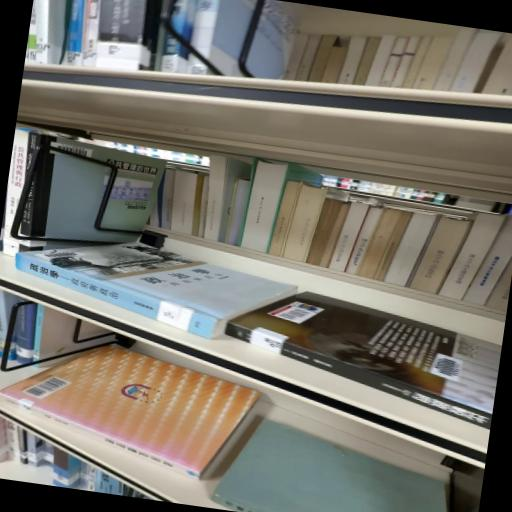flat: (225, 292, 500, 430), (0, 345, 260, 480), (15, 242, 297, 338), (212, 419, 447, 512)
